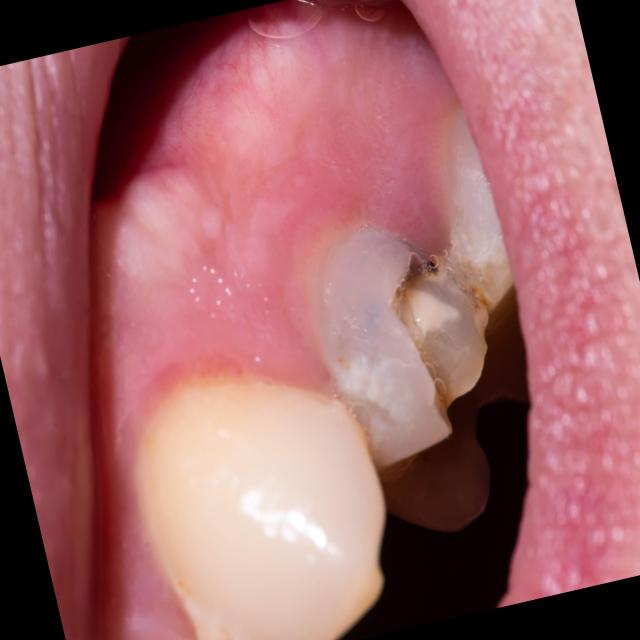Caries: (430, 261, 435, 266)
Cavity: (389, 247, 488, 429)
Tooth: (136, 379, 385, 640), (313, 227, 489, 470)
